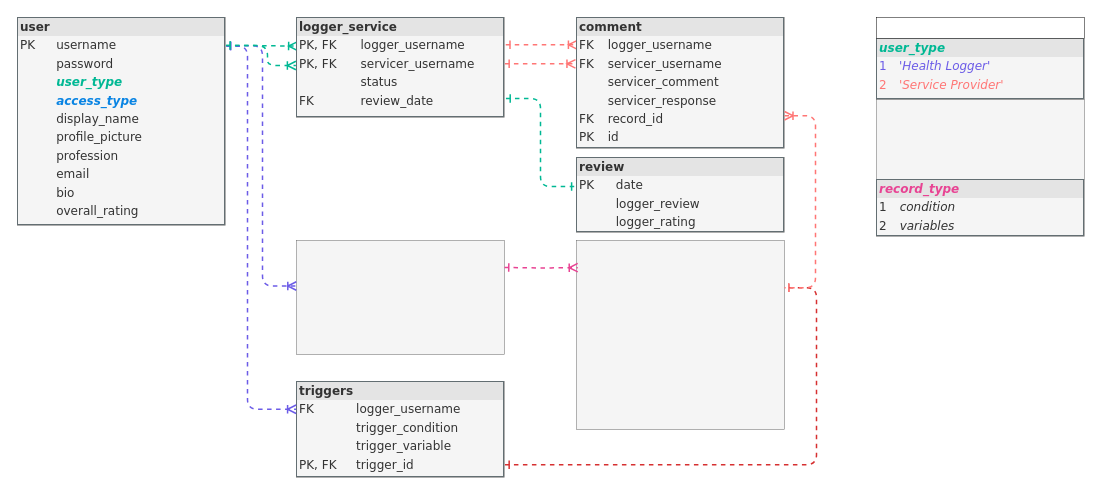
This 1102x495 diagram has some shape labels left out. The centre of each missing label's shape, as x and y in pixels:
"access_type 1 'Private' 2 'Public' 3 'Protected'" goes at point 980,139.
"Constraints:" goes at point 980,27.
"entry FK record_id PK id type name category title item image_url trigger_tag" goes at point 680,334.
"record PK id FK logger_username year month day" goes at point 400,297.
